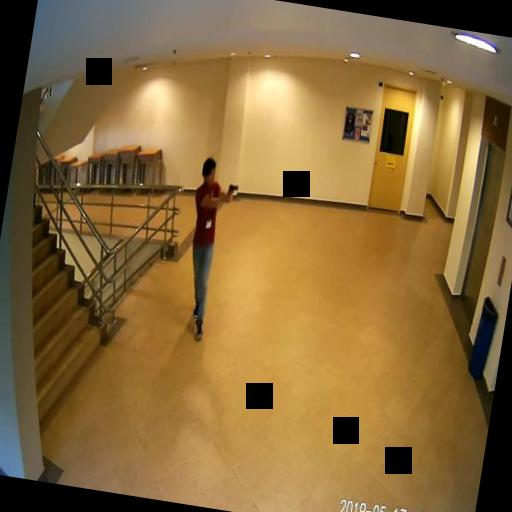Handgun: (225, 182, 237, 198)
